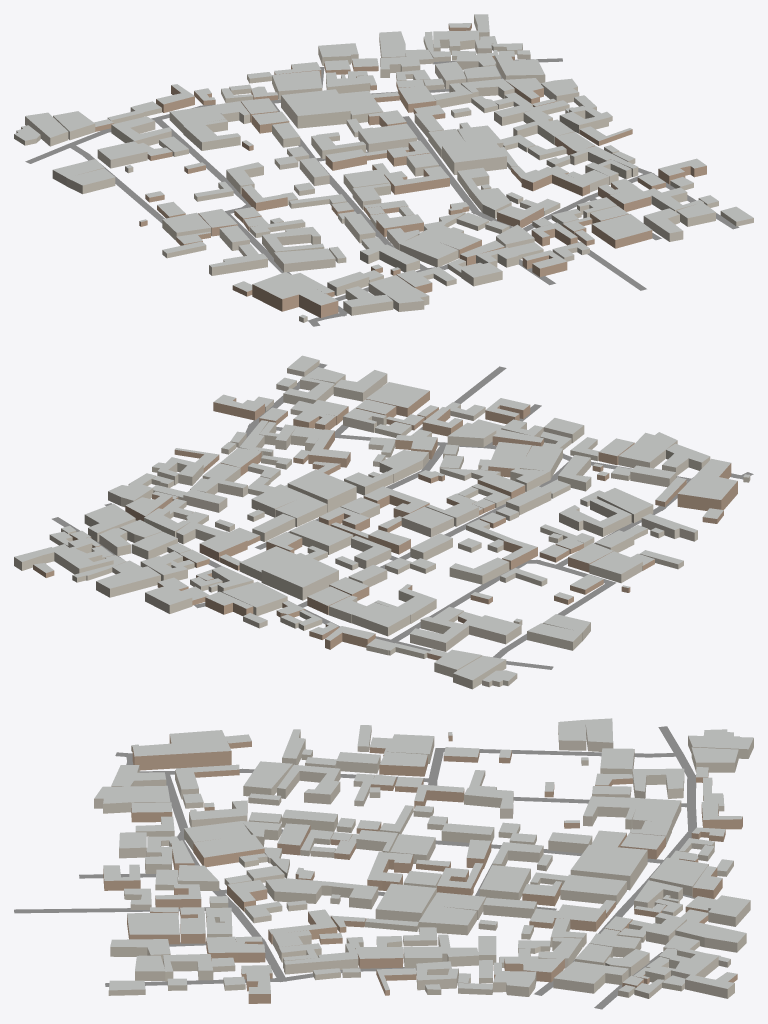
File: bolak_-10_5.glb
3 views of the same model, one above another, from view 1: azimuth 30°, elevation 25°; view 2: azimuth 150°, elevation 25°; view 3: azimuth 270°, elevation 25° (orthographic). The views are drawn at different scales.
Parts seen in each view (by area): view 1: Tom_Shifer, Devor_Suvoq-col, Devor_Gisht-col, Yol_Mahalla; view 2: Tom_Shifer, Devor_Suvoq-col, Devor_Gisht-col, Yol_Mahalla; view 3: Tom_Shifer, Devor_Suvoq-col, Devor_Gisht-col, Yol_Mahalla.
Part boxes in pixels (box(x1,y1,x2,y2)): Tom_Shifer: box(14, 14, 753, 317); Devor_Suvoq-col: box(14, 15, 753, 322); Devor_Gisht-col: box(95, 23, 706, 317); Yol_Mahalla: box(25, 58, 739, 326); Tom_Shifer: box(14, 355, 749, 682); Devor_Suvoq-col: box(14, 360, 750, 689); Devor_Gisht-col: box(33, 391, 737, 660); Yol_Mahalla: box(52, 363, 753, 669); Tom_Shifer: box(94, 718, 753, 993); Devor_Suvoq-col: box(94, 725, 753, 998); Devor_Gisht-col: box(103, 733, 742, 1003); Yol_Mahalla: box(14, 726, 696, 1009).
Bounding box in the file's own units: 442 × 10.4 × 488.
